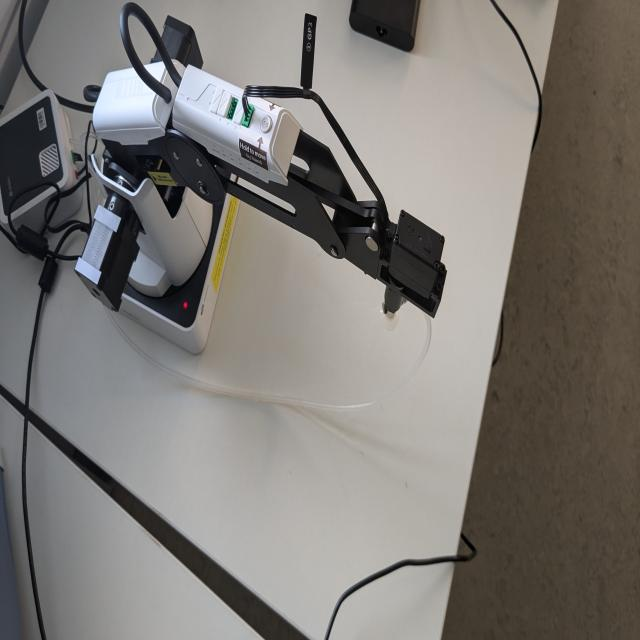Robot-end-effector-HF8z: (377, 206, 452, 336)
